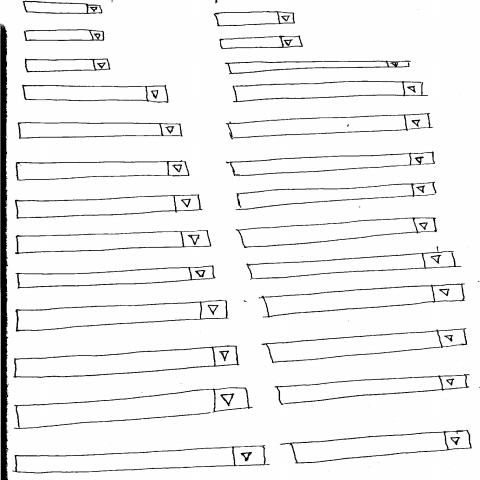Select: (15, 387, 251, 432), (14, 346, 239, 379), (264, 328, 469, 364), (14, 446, 267, 475), (261, 284, 466, 319), (16, 300, 229, 333), (236, 217, 439, 250), (288, 430, 473, 465), (247, 251, 459, 281), (237, 182, 438, 212), (276, 375, 470, 406), (225, 113, 433, 141), (229, 152, 436, 178), (15, 194, 202, 220), (17, 266, 217, 290), (16, 231, 214, 255), (233, 81, 426, 103), (16, 161, 191, 182), (19, 123, 184, 140), (22, 86, 170, 104), (226, 61, 412, 75), (215, 12, 297, 27), (25, 59, 112, 73), (24, 1, 104, 15), (220, 36, 304, 49), (24, 30, 105, 43)
